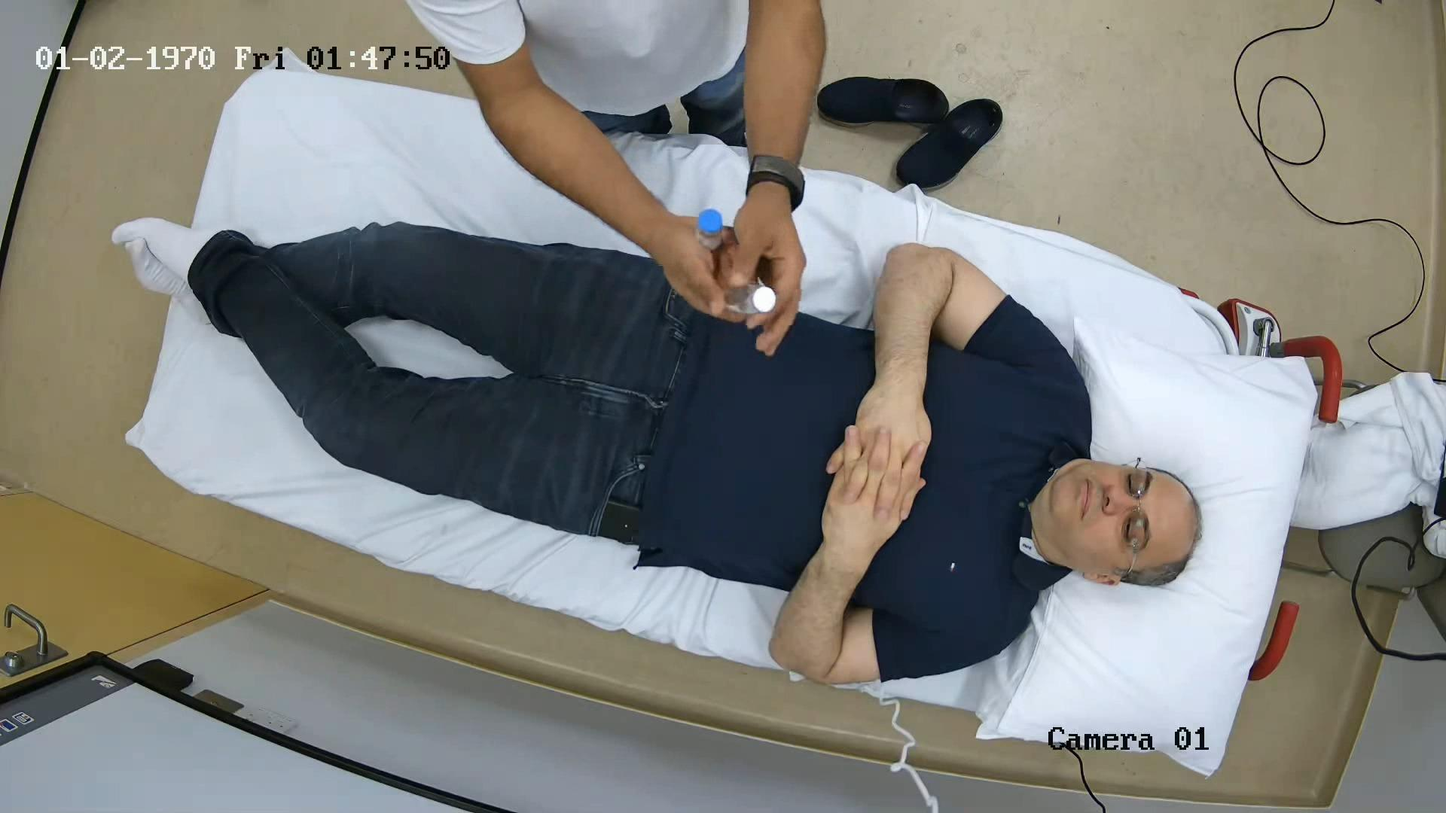augmentin: (726, 276, 776, 315)
bed: (127, 70, 1339, 775)
cefazolin: (697, 209, 725, 247)
patient: (188, 223, 1200, 684)
